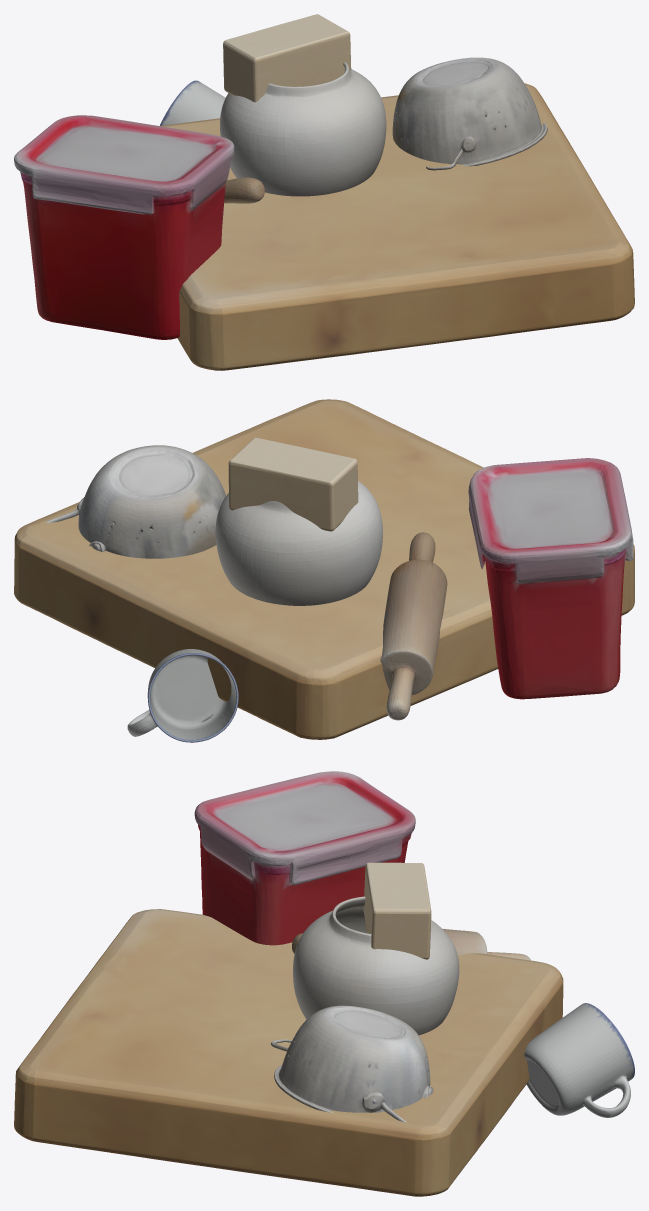
Rendered from sam3d.glb.
The picture shows the model from 3 angles, top to bottom: view 1: azimuth 30°, elevation 25°; view 2: azimuth 150°, elevation 25°; view 3: azimuth 270°, elevation 25°; orthographic projection.
Visible parts, largest first — view 1: object_06, object_05, object_04, object_03, object_01, object_02, object_00; view 2: object_06, object_05, object_04, object_03, object_01, object_00, object_02; view 3: object_06, object_05, object_04, object_03, object_02, object_01, object_00.
Boxes of the visible parts, x1,y1,x2,y2 form: object_06: (160, 83, 634, 370); object_05: (14, 115, 234, 339); object_04: (220, 62, 386, 196); object_03: (392, 57, 547, 170); object_01: (223, 14, 351, 102); object_02: (160, 80, 225, 125); object_00: (224, 177, 264, 203); object_06: (14, 399, 634, 739); object_05: (468, 458, 633, 699); object_04: (215, 480, 382, 605); object_03: (45, 445, 225, 558); object_01: (228, 437, 358, 531); object_00: (380, 532, 447, 720); object_02: (127, 649, 238, 742); object_06: (14, 909, 563, 1196); object_05: (194, 771, 415, 945); object_04: (293, 896, 459, 1035); object_03: (271, 1005, 433, 1122); object_02: (524, 1003, 634, 1117); object_01: (363, 862, 431, 959); object_00: (292, 929, 530, 960).
Bounding box in the file's own units: 0.7616 × 0.2804 × 0.7306.
